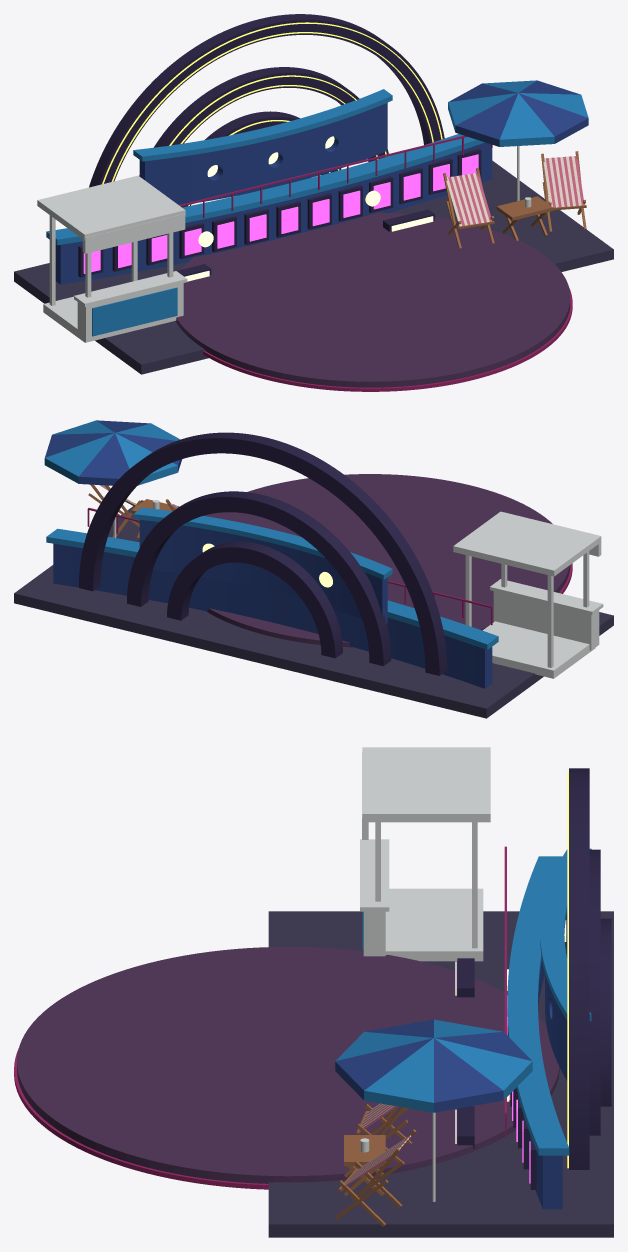
The picture shows the model from 3 angles, top to bottom: view 1: azimuth 30°, elevation 25°; view 2: azimuth 150°, elevation 25°; view 3: azimuth 270°, elevation 25°; orthographic projection. The views are drawn at different scales.
Visible parts, largest first — view 1: P01 finite front round podium, P03 finite rear apron, W01 upper curved shell, A00 vertical arch solid, W04 lower facade, K03 roof, W05 lower coping, A01 vertical arch solid, W03 upper coping, K06 counter front insert, P02 podium edge, K04 fascia (+15 smaller); view 2: P01 finite front round podium, P03 finite rear apron, A00 vertical arch solid, W04 lower facade, A01 vertical arch solid, W01 upper curved shell, K03 roof, A02 vertical arch solid, K01 pavilion plinth, K05 front counter, W03 upper coping, W05 lower coping (+10 smaller); view 3: P01 finite front round podium, P03 finite rear apron, K03 roof, A00 vertical arch solid, W05 lower coping, K01 pavilion plinth, A01 vertical arch solid, W03 upper coping, U02 canopy segment 7, U02 canopy segment 0, A02 vertical arch solid, U02 canopy segment 1 (+15 smaller).
Part boxes in pixels (x1,y1,x2,y2): P01 finite front round podium: [175, 212, 570, 387]; P03 finite rear apron: [14, 160, 613, 374]; W01 upper curved shell: [139, 102, 387, 204]; A00 vertical arch solid: [89, 14, 444, 187]; W04 lower facade: [55, 142, 492, 284]; K03 roof: [37, 175, 185, 240]; W05 lower coping: [46, 134, 484, 245]; A01 vertical arch solid: [139, 67, 388, 176]; W03 upper coping: [133, 89, 392, 161]; K06 counter front insert: [92, 287, 177, 336]; P02 podium edge: [203, 288, 572, 391]; K04 fascia: [82, 213, 185, 253]; P01 finite front round podium: [203, 474, 570, 647]; P03 finite rear apron: [14, 500, 613, 718]; A00 vertical arch solid: [79, 432, 447, 675]; W04 lower facade: [53, 543, 492, 688]; A01 vertical arch solid: [127, 491, 391, 666]; W01 upper curved shell: [139, 520, 387, 623]; K03 roof: [453, 511, 601, 576]; A02 vertical arch solid: [167, 541, 342, 658]; K01 pavilion plinth: [483, 621, 595, 678]; K05 front counter: [493, 591, 599, 650]; W03 upper coping: [133, 507, 392, 579]; W05 lower coping: [46, 528, 498, 649]; P01 finite front round podium: [17, 946, 559, 1183]; P03 finite rear apron: [268, 911, 613, 1237]; K03 roof: [362, 747, 490, 822]; A00 vertical arch solid: [569, 768, 589, 1169]; W05 lower coping: [507, 856, 569, 1155]; K01 pavilion plinth: [385, 888, 483, 961]; A01 vertical arch solid: [589, 849, 600, 1135]; W03 upper coping: [540, 848, 591, 1021]; U02 canopy segment 7: [364, 1038, 433, 1112]; U02 canopy segment 0: [434, 1038, 503, 1112]; A02 vertical arch solid: [600, 918, 611, 1106]; U02 canopy segment 1: [434, 1038, 532, 1099].
Bounding box in the file's own units: 16.62 × 6.41 × 12.16.
